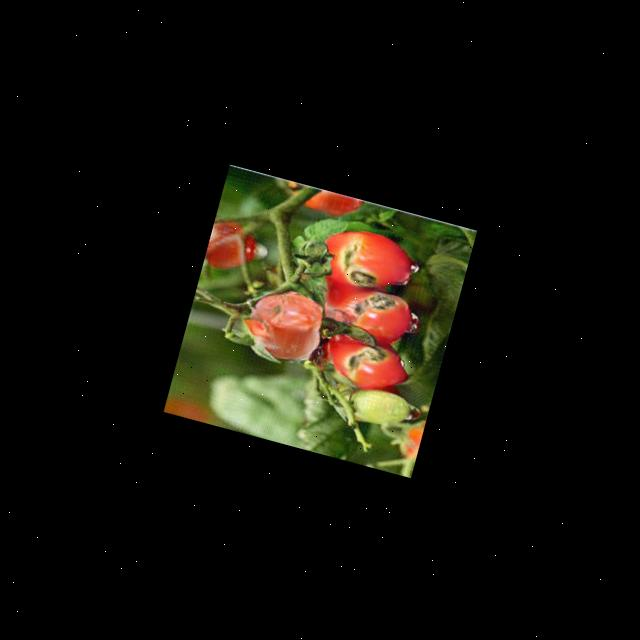tomato: (236, 281, 332, 372), (314, 219, 418, 296), (318, 324, 414, 397), (330, 280, 420, 350)
